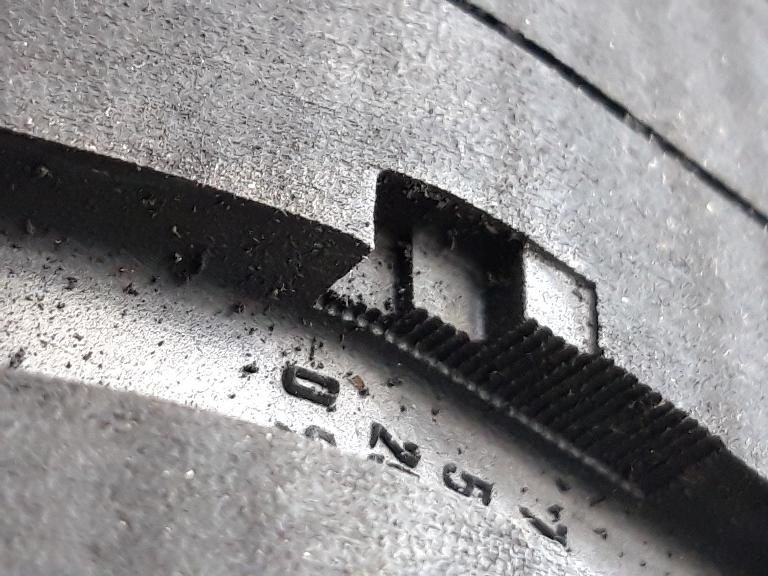temoin:50: (298, 153, 618, 443)
